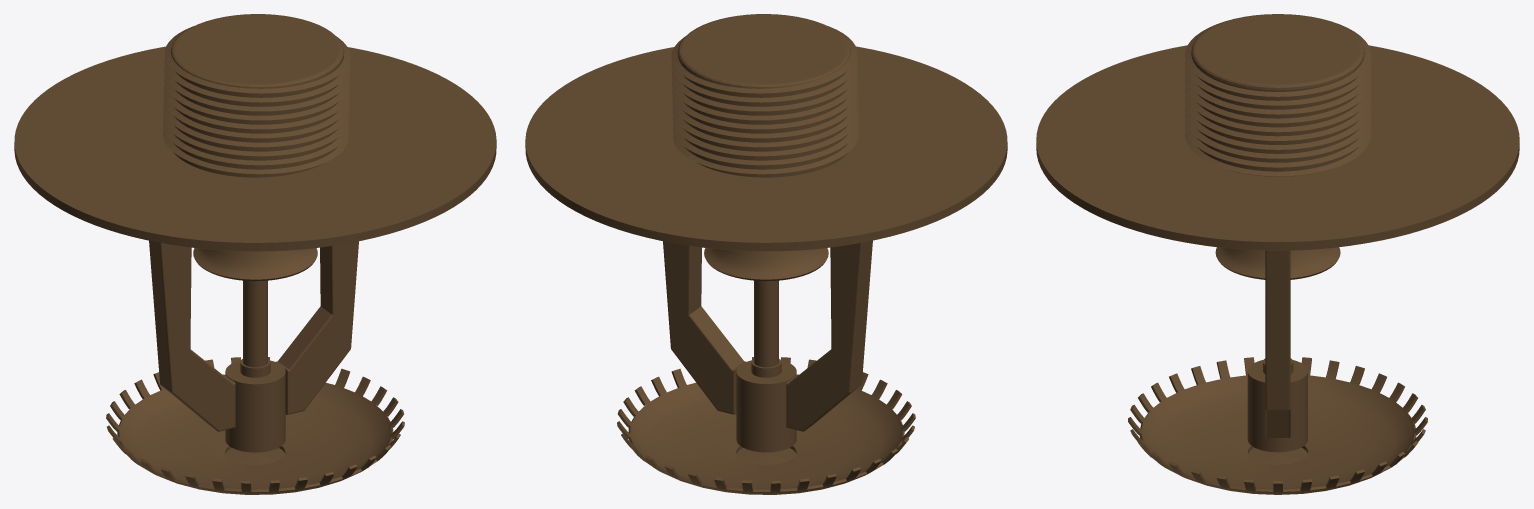
3 views of the same model, side by side, from view 1: azimuth 30°, elevation 25°; view 2: azimuth 150°, elevation 25°; view 3: azimuth 270°, elevation 25° (orthographic).
Visible parts, largest first — view 1: pp0328, pp0323; view 2: pp0328, pp0323; view 3: pp0328.
Boxes of the visible parts, x1=… form: pp0328: x1=14, y1=14, x2=496, y2=494; pp0323: x1=243, y1=280, x2=267, y2=367; pp0328: x1=525, y1=14, x2=1007, y2=494; pp0323: x1=754, y1=280, x2=778, y2=367; pp0328: x1=1036, y1=14, x2=1519, y2=494.
Size of the model in its own units: 67.2 by 62.69 by 67.2.
